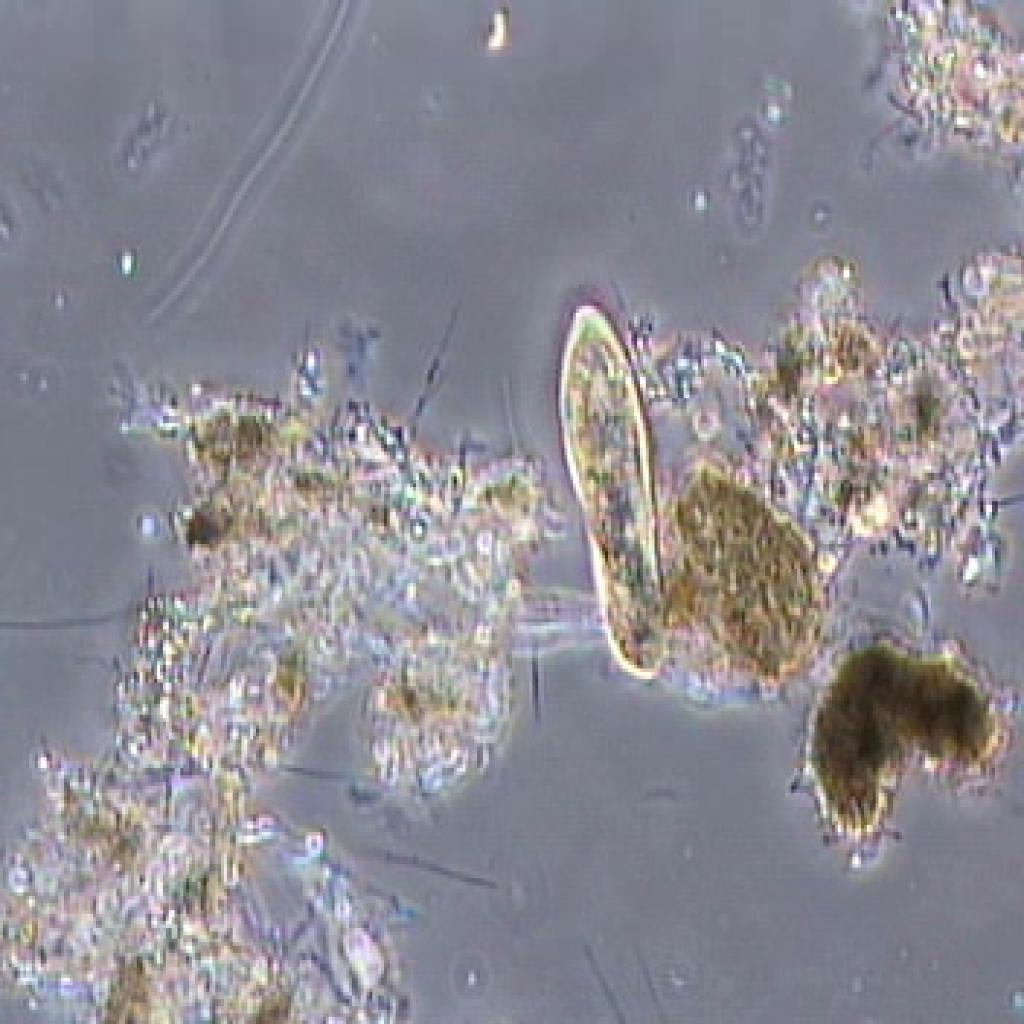Paramecium: (541, 276, 684, 702)
